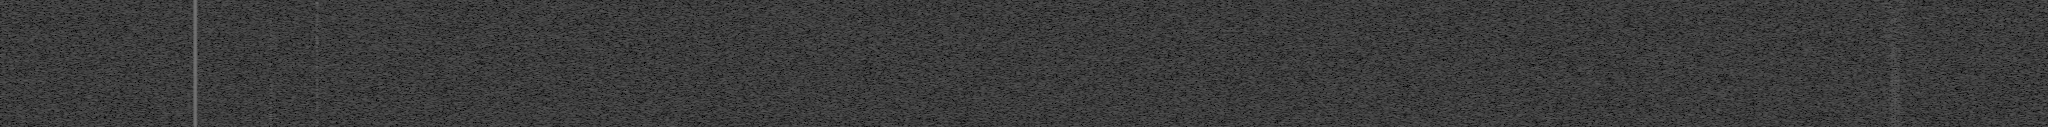wv_cw: (192, 0, 199, 127)
wv_lsb: (268, 69, 273, 111), (268, 13, 273, 35), (268, 113, 273, 127), (268, 37, 273, 50), (268, 58, 273, 69), (268, 3, 273, 12), (269, 51, 273, 58)
wv_usb: (313, 0, 320, 127), (1464, 24, 1468, 54), (1464, 81, 1469, 102), (1464, 103, 1469, 114), (1465, 55, 1468, 69), (1464, 3, 1468, 12), (1465, 69, 1468, 80), (1464, 20, 1468, 24), (1464, 120, 1469, 123), (1464, 117, 1469, 119), (1465, 14, 1468, 20), (1464, 124, 1468, 127)
wv_wbfm: (1880, 7, 1911, 127), (1880, 0, 1910, 7)
